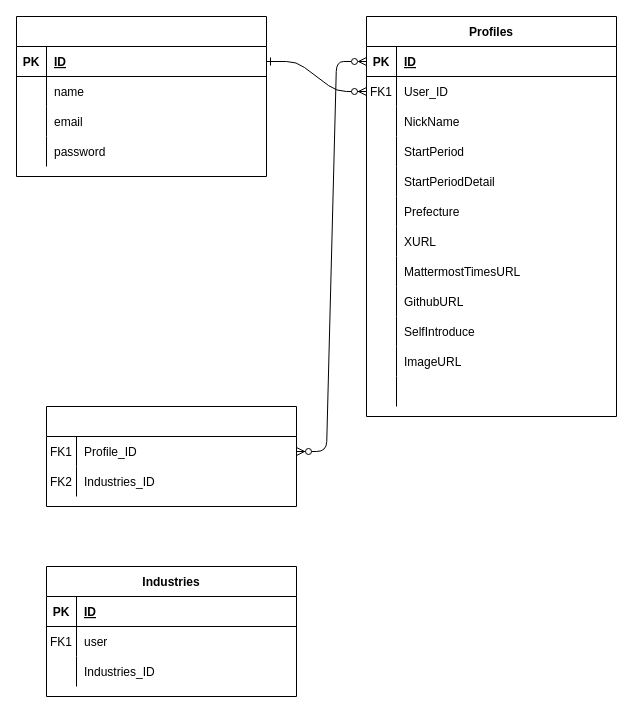
Some shapes in this 633 by 713 pixel diagram are drawn without their labels. The box of each missing label's shape, as (x1, y1, x2, y2) in pixels:
ProfileIndustries: (46, 406, 296, 506)
Users: (16, 16, 266, 176)
